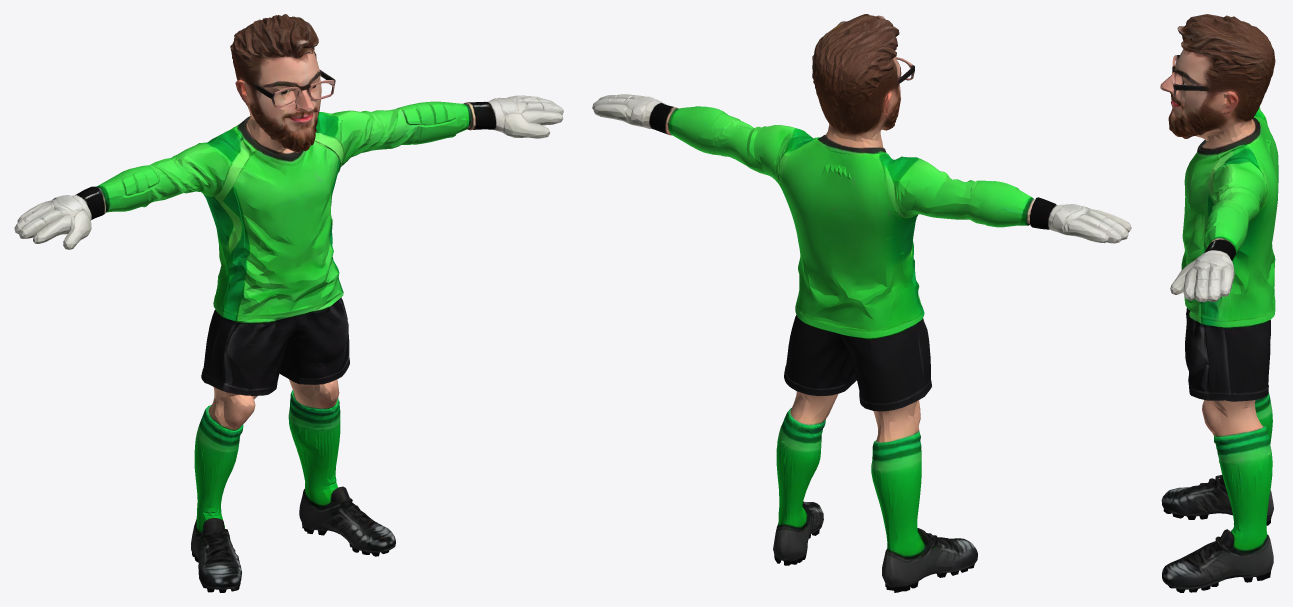
File: keeper.glb
3 renders of one model, left to right at view 1: azimuth 30°, elevation 25°; view 2: azimuth 150°, elevation 25°; view 3: azimuth 270°, elevation 25°, orthographic.
Parts seen in each view (by area): view 1: model; view 2: model; view 3: model.
Boxes of the visible parts, bbox=[...] form: model: bbox=[14, 14, 563, 592]; model: bbox=[592, 14, 1131, 592]; model: bbox=[1160, 14, 1278, 592].
Bounding box in the file's own units: 1.89 × 1.82 × 0.3666.
1 material, 1 textured.
